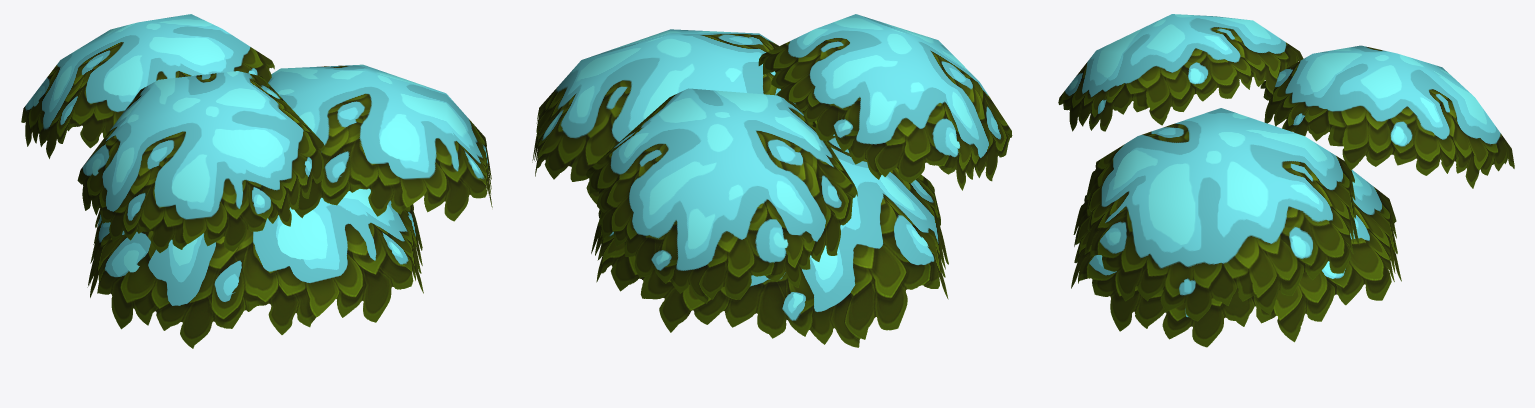
Rendered from Bush.FBX.
3 views of the same model, side by side, from view 1: azimuth 30°, elevation 25°; view 2: azimuth 150°, elevation 25°; view 3: azimuth 270°, elevation 25° (orthographic). The views are drawn at different scales.
Parts seen in each view (by area): view 1: Line1569; view 2: Line1569; view 3: Line1569.
Boxes of the visible parts, bbox=[...] form: Line1569: bbox=[21, 14, 492, 348]; Line1569: bbox=[532, 14, 1012, 347]; Line1569: bbox=[1058, 14, 1514, 347].
Bounding box in the file's own units: 66.47 × 39.18 × 66.12.
1 material, 1 textured.
